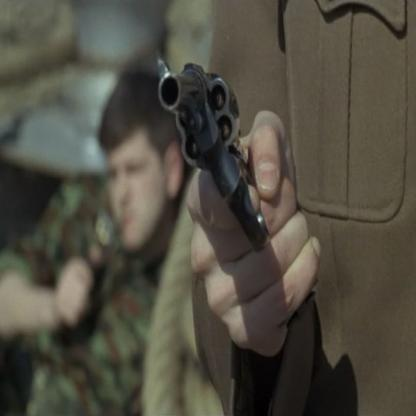gun: (147, 47, 273, 254)
